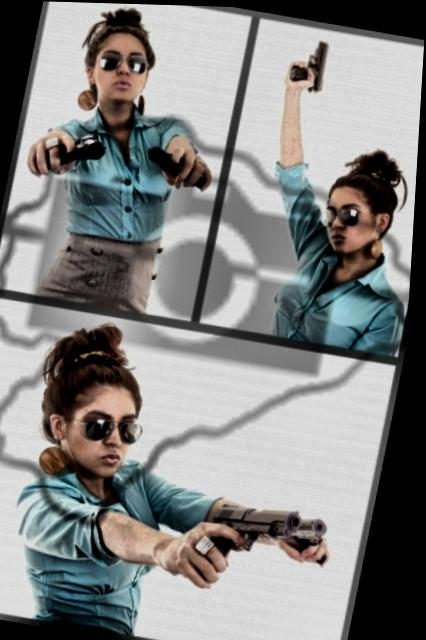pistol: (191, 492, 309, 586), (264, 502, 352, 568), (33, 118, 116, 184), (146, 138, 221, 190), (283, 30, 334, 92)
